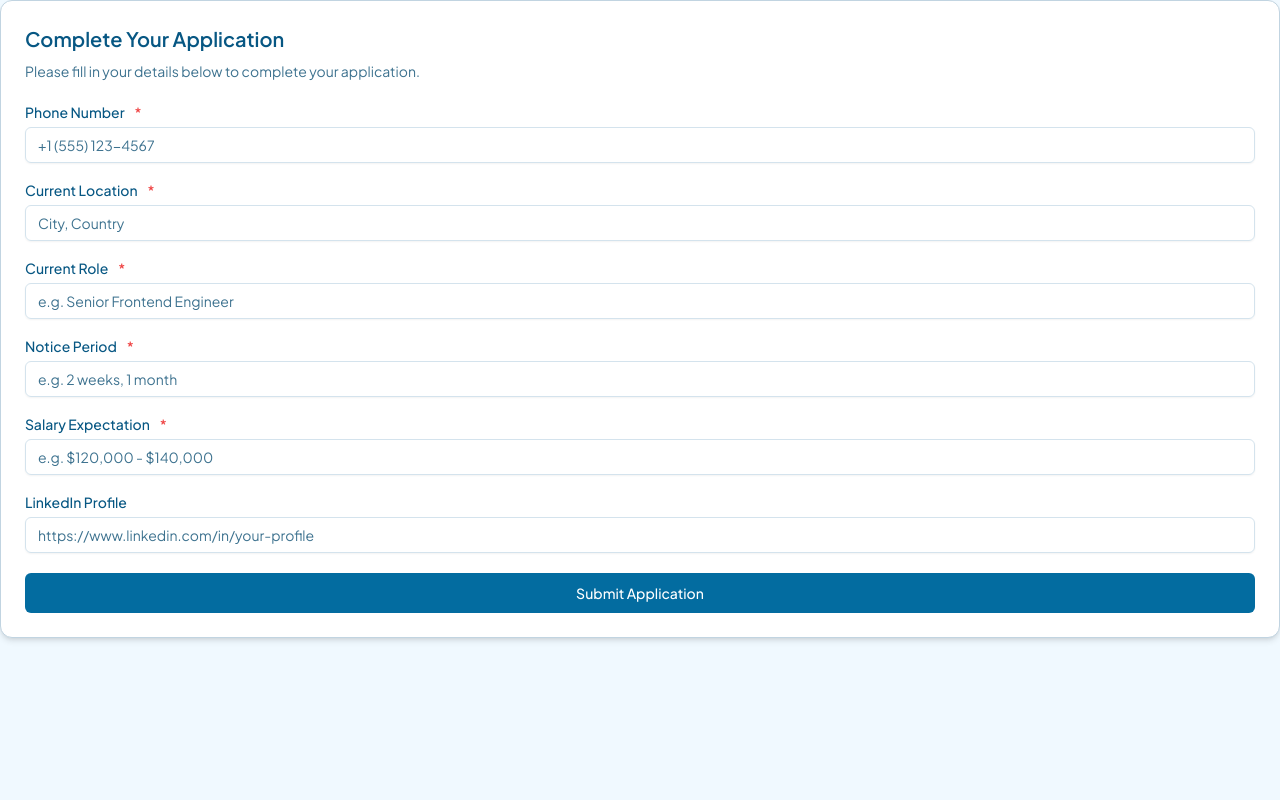
Test: ApplicationForm › shows required errors when submitting empty form
This screenshot has width=1280, height=800.
Click the button "Submit Application". click: (640, 593)
box: x1=25 y1=573 x2=1255 y2=613
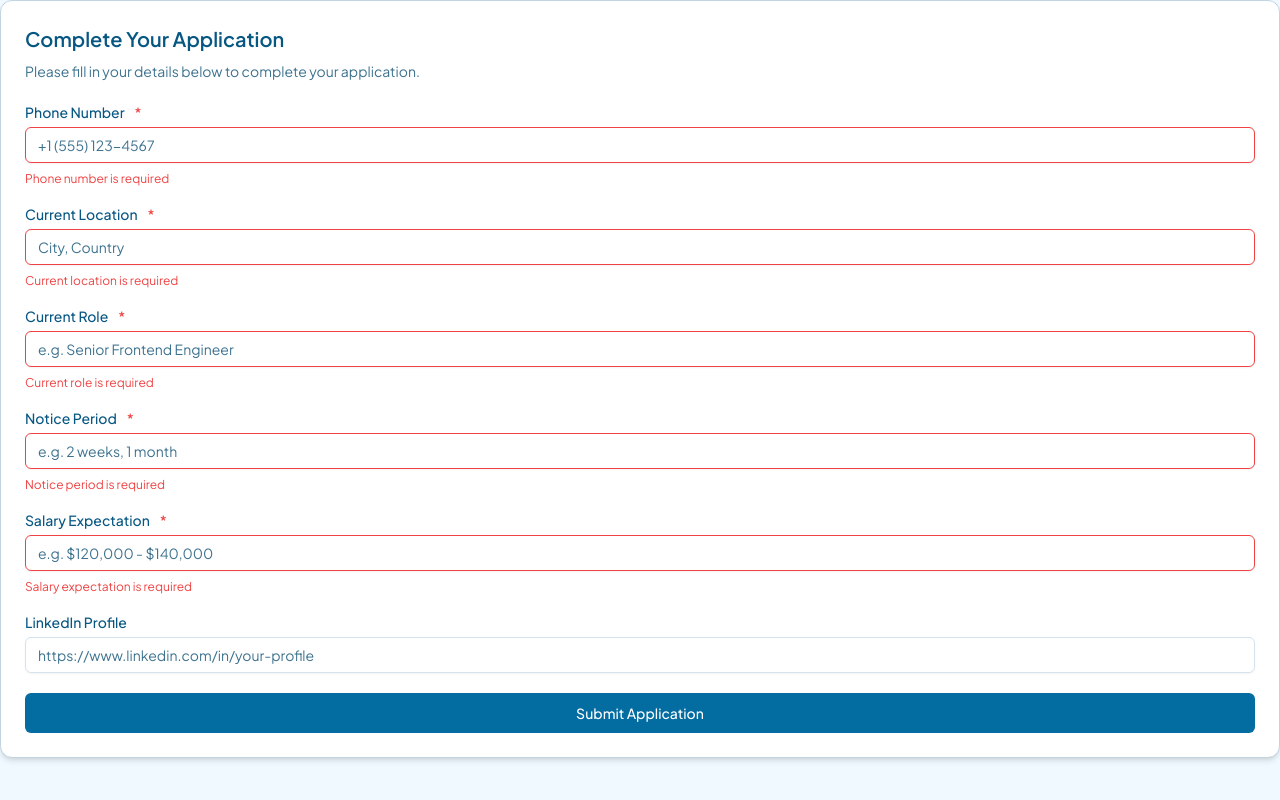
Check: the text "Phone number is required" is shown, box x1=25 y1=171 x2=169 y2=186
Check: the text "Current location is required" is shown, box x1=25 y1=273 x2=178 y2=288
Check: the text "Current role is required" is shown, box x1=25 y1=375 x2=154 y2=390
